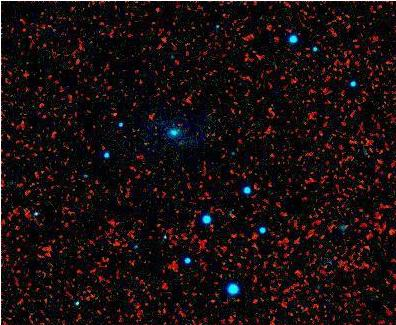star: (165, 109, 195, 139)
